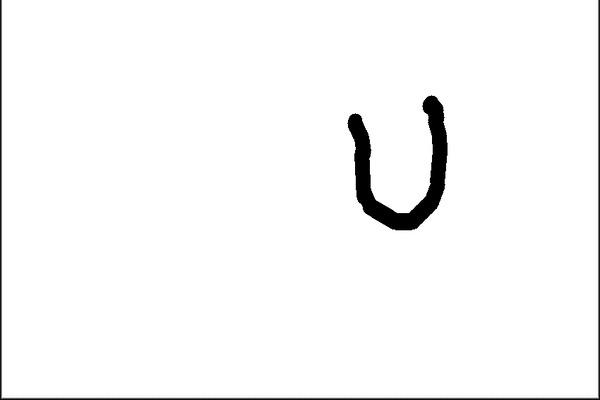U: (346, 91, 455, 232)
